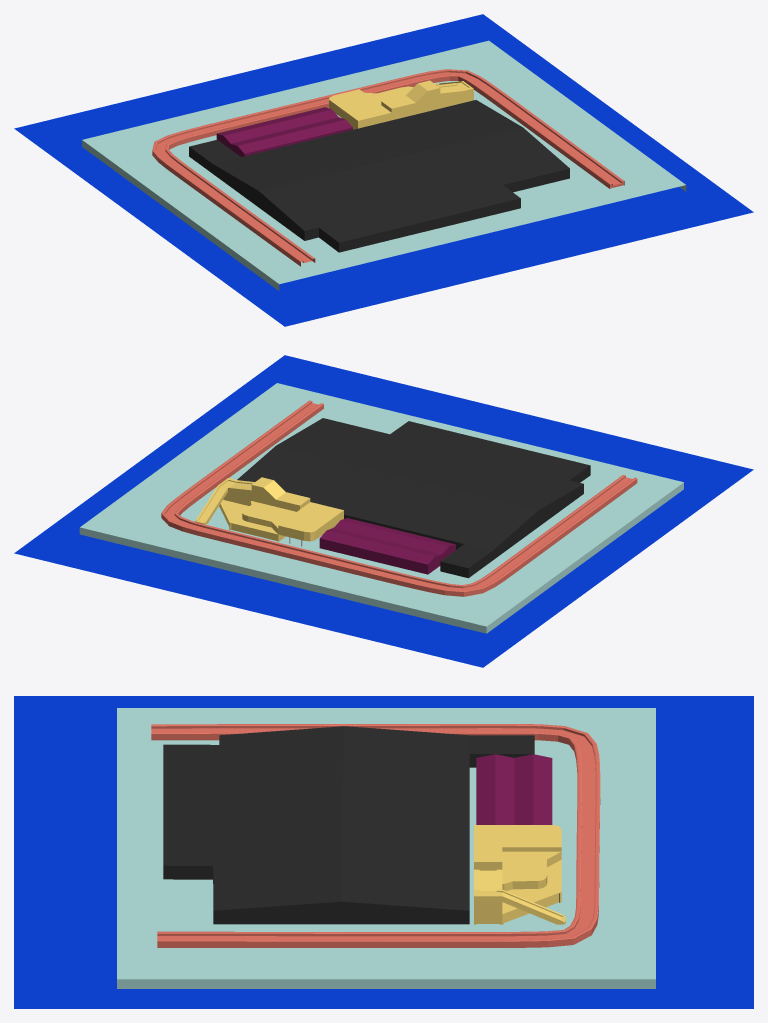
The model's file is manseok-hwasu-map.glb.
3 views of the same model, one above another, from view 1: azimuth 30°, elevation 25°; view 2: azimuth 150°, elevation 25°; view 3: azimuth 270°, elevation 25° (orthographic). The views are drawn at different scales.
Visible parts, largest first — view 1: Plane, Warehouse, pav, road, Crocat house, Pav; view 2: Plane, pav, Warehouse, road, Crocat house, Pav; view 3: Plane, pav, Warehouse, road, Crocat house, Pav.
Part boxes in pixels (bbox=[...]): Plane: bbox=[14, 14, 753, 326]; Warehouse: bbox=[189, 100, 569, 252]; pav: bbox=[82, 40, 686, 290]; road: bbox=[152, 69, 624, 266]; Crocat house: bbox=[329, 80, 473, 129]; Pav: bbox=[216, 107, 352, 156]; Plane: bbox=[14, 355, 753, 667]; pav: bbox=[79, 383, 683, 633]; Warehouse: bbox=[237, 418, 590, 578]; road: bbox=[161, 400, 637, 596]; Crocat house: bbox=[195, 477, 343, 541]; Pav: bbox=[319, 518, 455, 574]; Plane: bbox=[14, 696, 753, 1008]; pav: bbox=[117, 708, 655, 988]; Warehouse: bbox=[163, 726, 534, 924]; road: bbox=[151, 724, 600, 947]; Crocat house: bbox=[474, 825, 565, 924]; Pav: bbox=[476, 754, 552, 824].
Size of the model in its own units: 2.95 by 0.2341 by 2.95.
